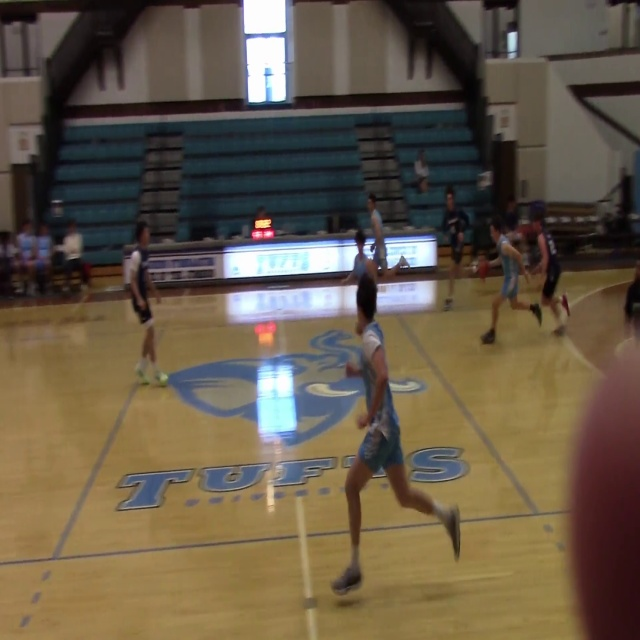Basketball: (566, 337, 639, 639), (345, 359, 363, 378), (476, 259, 489, 278)
